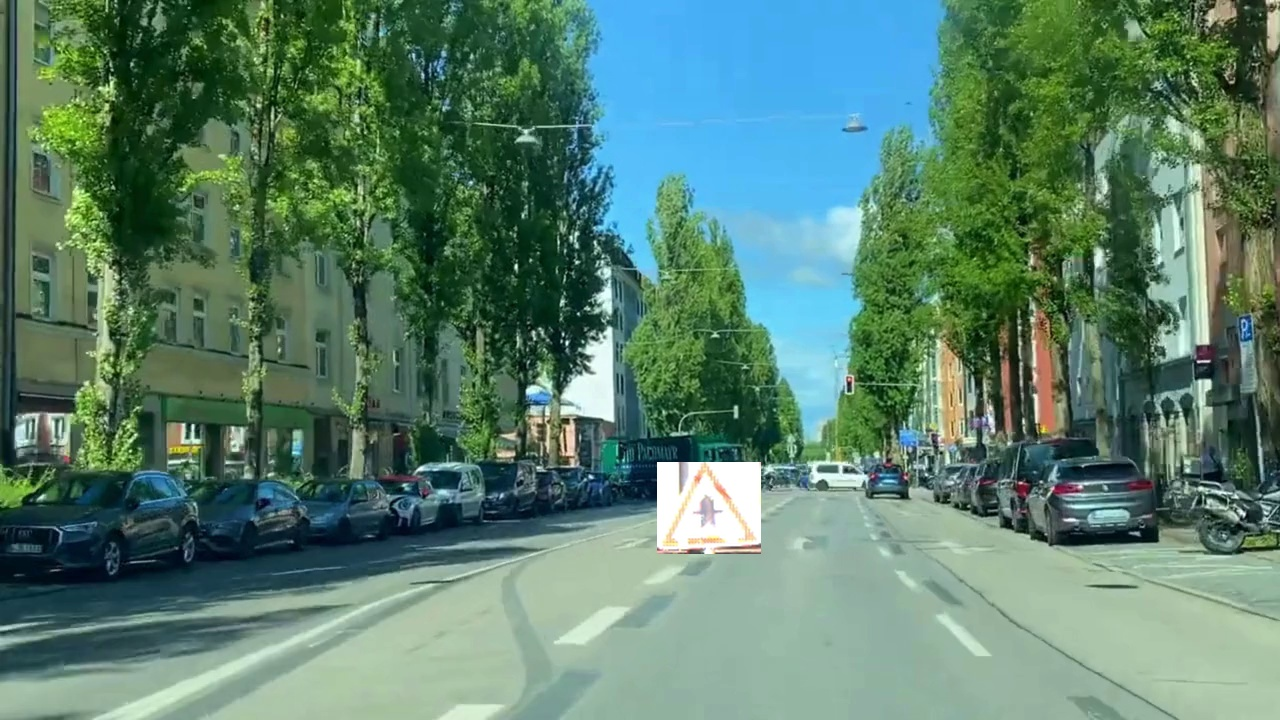Right-of-way: (657, 462, 761, 554)
